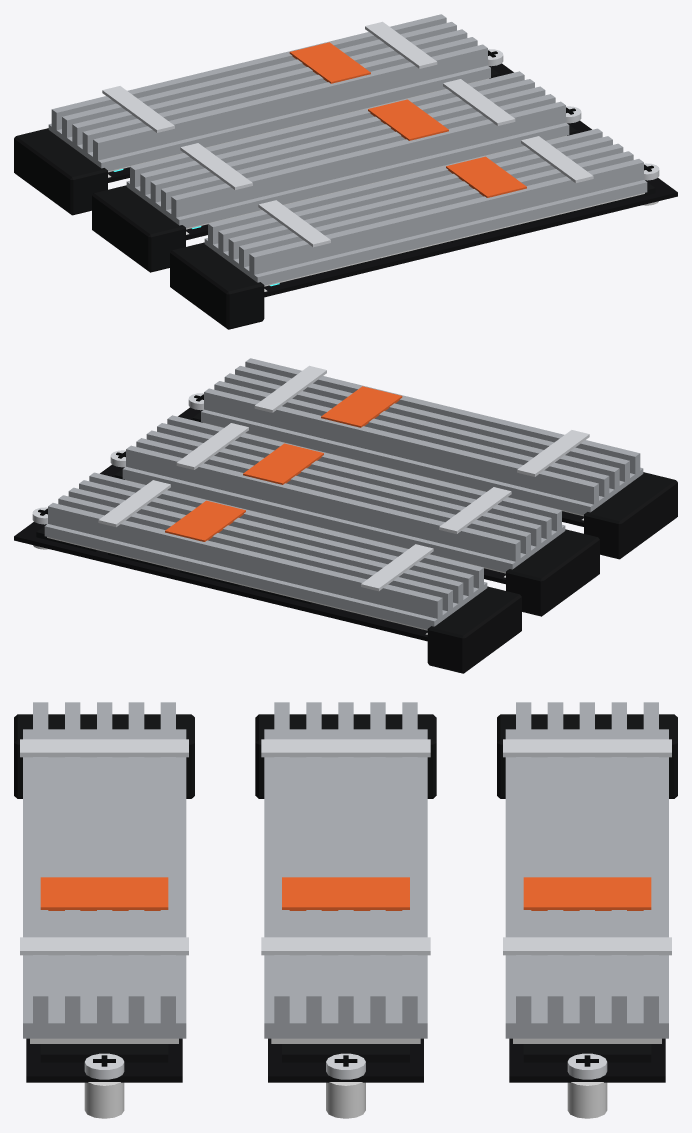
File: hwm_sto_sas_ssd_15tb.glb
3 renders of one model, top to bottom at view 1: azimuth 30°, elevation 25°; view 2: azimuth 150°, elevation 25°; view 3: azimuth 270°, elevation 25°, orthographic. The views are drawn at different scales.
Parts seen in each view (by area): view 1: SSD_2, SSD_0, SSD_1, Slots; view 2: SSD_0, SSD_2, SSD_1, Slots; view 3: SSD_0, SSD_2, SSD_1, Slots, Screw_0, Screw_2, Screw_1.
Boxes of the visible parts, x1=… form: SSD_2: x1=204, y1=128, x2=677, y2=297; SSD_0: x1=48, y1=14, x2=513, y2=182; SSD_1: x1=126, y1=71, x2=591, y2=240; Slots: x1=14, y1=63, x2=658, y2=329; SSD_0: x1=14, y1=472, x2=487, y2=641; SSD_2: x1=178, y1=358, x2=643, y2=526; SSD_1: x1=100, y1=415, x2=565, y2=584; Slots: x1=33, y1=407, x2=677, y2=673; SSD_0: x1=503, y1=702, x2=671, y2=1082; SSD_2: x1=20, y1=702, x2=188, y2=1082; SSD_1: x1=261, y1=702, x2=430, y2=1082; Slots: x1=14, y1=714, x2=677, y2=1118; Screw_0: x1=567, y1=1053, x2=607, y2=1079; Screw_2: x1=84, y1=1053, x2=124, y2=1079; Screw_1: x1=326, y1=1053, x2=365, y2=1079.
Size of the model in its own units: 0.1155 by 0.0154 by 0.0935.
